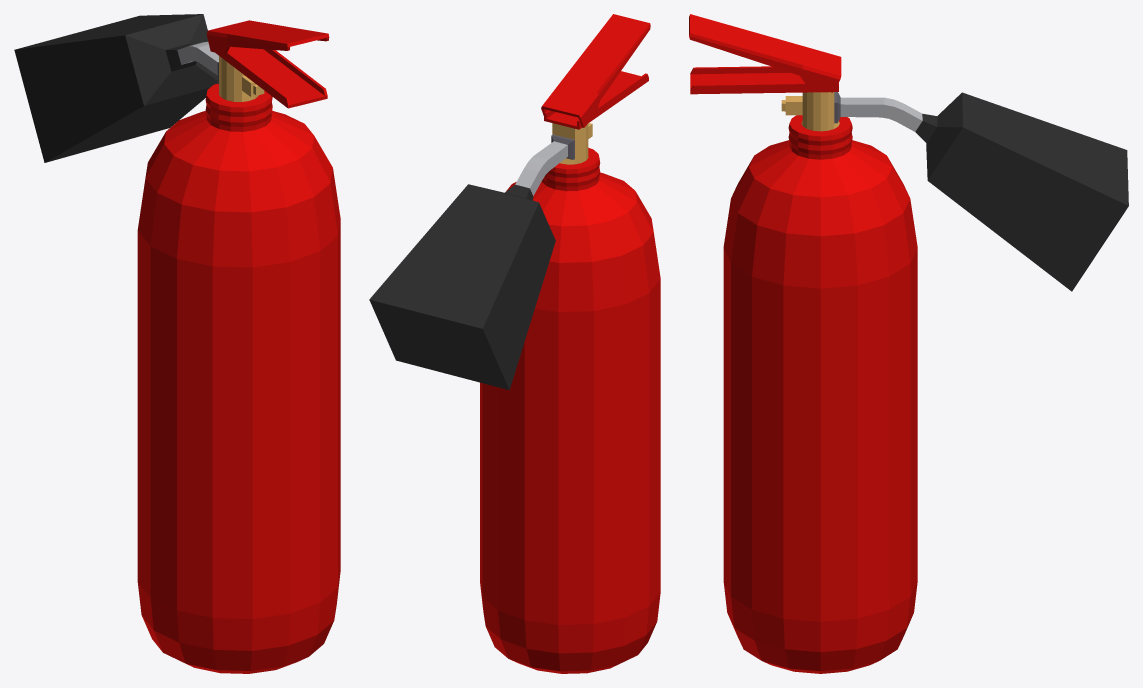
Rendered from extinguisher.fbx.
3 views of the same model, side by side, from view 1: azimuth 30°, elevation 25°; view 2: azimuth 150°, elevation 25°; view 3: azimuth 270°, elevation 25° (orthographic). The views are drawn at different scales.
Visible parts, largest first — view 1: Cylinder; view 2: Cylinder; view 3: Cylinder.
Boxes of the visible parts, <box> form: Cylinder: <box>14,14,340,673</box>; Cylinder: <box>369,14,660,673</box>; Cylinder: <box>689,14,1128,673</box>.
Size of the model in its own units: 0.3016 by 1.06 by 0.6832.
